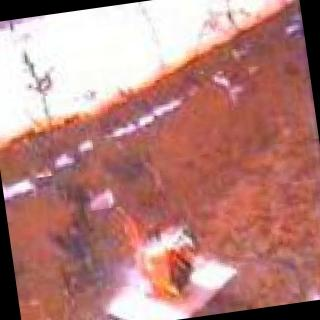fire: (109, 194, 209, 310)
